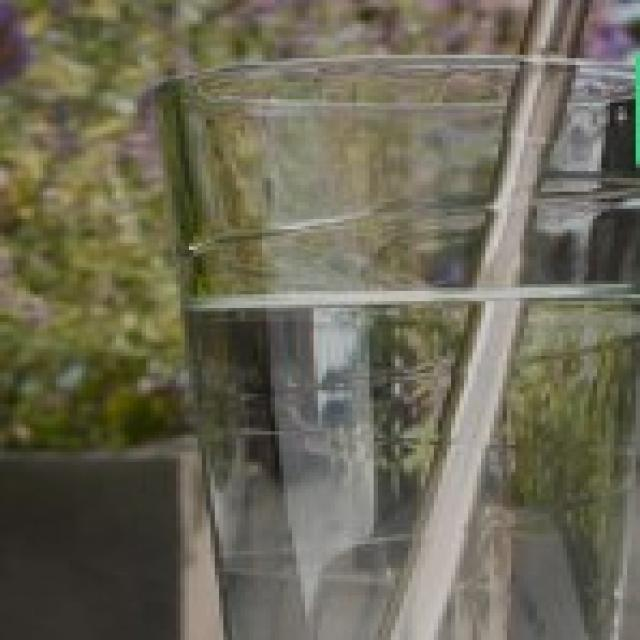electronic: (155, 57, 640, 640)
